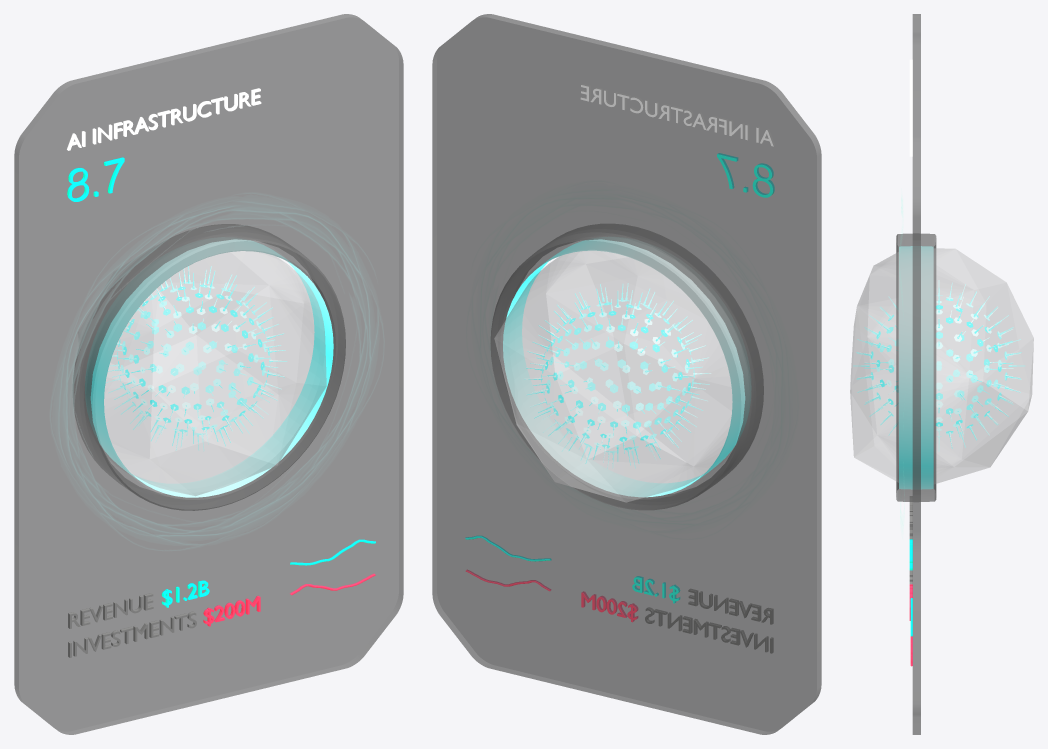
The model's file is ui_1_1_latest.glb.
3 renders of one model, left to right at view 1: azimuth 30°, elevation 25°; view 2: azimuth 150°, elevation 25°; view 3: azimuth 270°, elevation 25°, orthographic. The views are drawn at different scales.
Parts seen in each view (by area): view 1: baseGreen, Glass, Corner, neon-corner, baseCorner, neon-sphere.001, Text, Text.004, neon-rimGreen, Text.002, neon-text1, neon-text3; view 2: baseGreen, Glass, Corner, neon-corner, baseCorner, neon-sphere.001, Text, Text.004, Text.002, neon-text1, neon-text3; view 3: Glass, Corner, neon-corner, baseCorner, neon-sphere.001, Text.
Part boxes in pixels (x1,y1,x2,y2): baseGreen: (14, 14, 403, 734); Glass: (104, 251, 326, 495); Corner: (74, 224, 345, 510); neon-corner: (85, 237, 333, 497); baseCorner: (14, 14, 403, 734); neon-sphere.001: (105, 266, 287, 451); Text: (67, 88, 261, 150); Text.004: (68, 611, 196, 657); neon-rimGreen: (66, 206, 370, 536); Text.002: (68, 593, 153, 628); neon-text1: (67, 157, 124, 201); neon-text3: (203, 595, 260, 626); baseGreen: (432, 14, 821, 734); Glass: (494, 251, 732, 502); Corner: (490, 224, 763, 510); neon-corner: (503, 237, 750, 497); baseCorner: (432, 14, 821, 734); neon-sphere.001: (524, 283, 711, 469); Text: (580, 84, 774, 146); Text.004: (645, 607, 773, 653); Text.002: (688, 589, 773, 624); neon-text1: (717, 153, 774, 197); neon-text3: (581, 591, 637, 622); Glass: (850, 248, 1033, 483); Corner: (896, 233, 936, 501); neon-corner: (899, 246, 933, 489); baseCorner: (912, 14, 920, 734); neon-sphere.001: (853, 280, 1024, 451); Text: (909, 59, 912, 156).
Bounding box in the file's own units: 1.47 × 2.38 × 0.666.
Materials: 8 (1 with a texture image).
